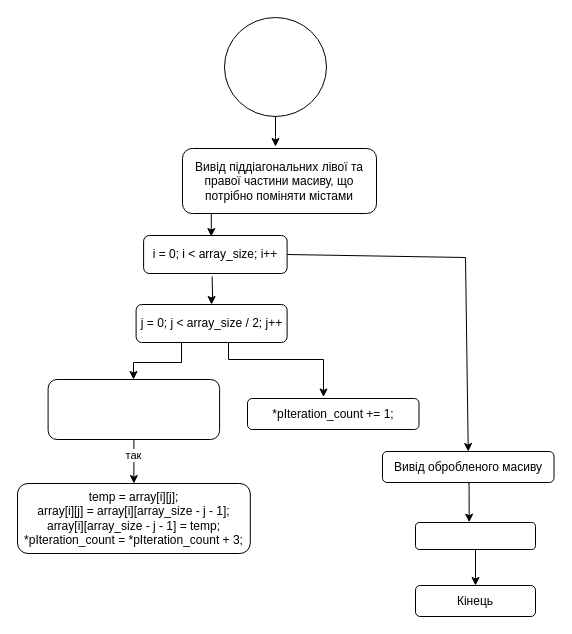
Image size: 572x634. Some labels were removed from this diagram. The centre of each missing label's shape, as x and y in pixels:
(i < j || array_size - j - 1 > i) && (i > j || array_size - j - 1 < i): point 133,409
free(array);: point 475,536
Функція виконання другої частини завдання: point 275,66
